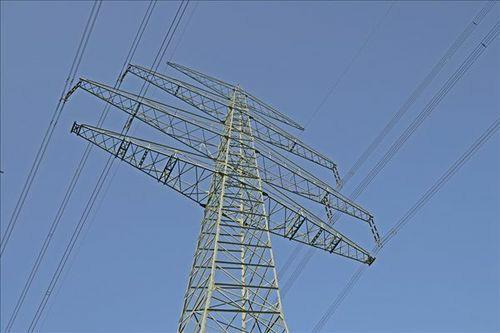power_tower: (67, 45, 384, 333)
